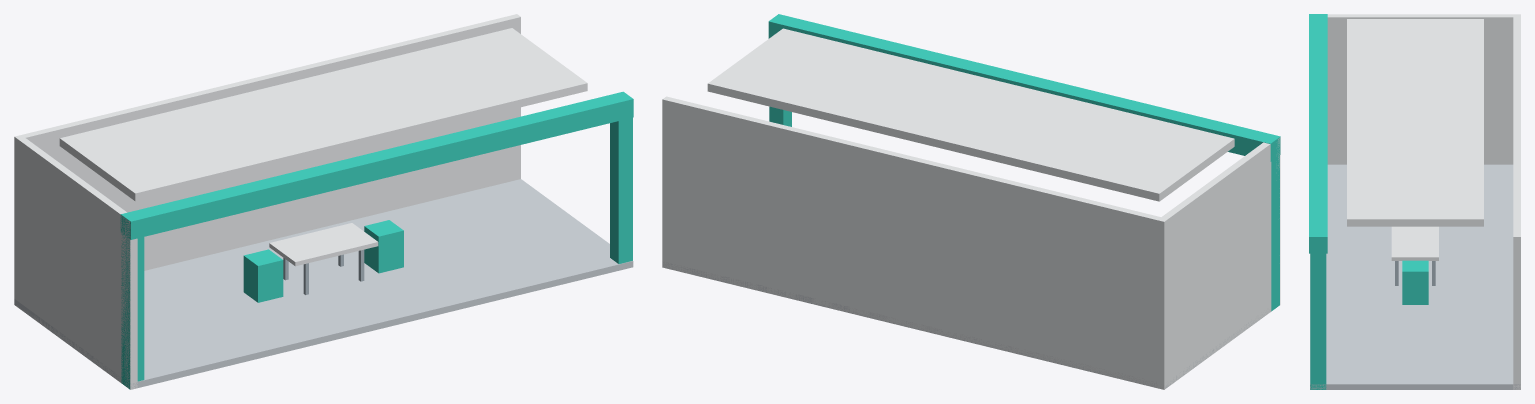
3 views of the same model, side by side, from view 1: azimuth 30°, elevation 25°; view 2: azimuth 150°, elevation 25°; view 3: azimuth 270°, elevation 25° (orthographic). The views are drawn at different scales.
Parts seen in each view (by area): view 1: Exhibition Booth Concept; view 2: Exhibition Booth Concept; view 3: Exhibition Booth Concept.
Part boxes in pixels (x1=…): Exhibition Booth Concept: x1=14, y1=14, x2=633, y2=389; Exhibition Booth Concept: x1=662, y1=14, x2=1280, y2=389; Exhibition Booth Concept: x1=1309, y1=14, x2=1520, y2=389.
Size of the model in its own units: 10 by 3.34 by 4.02.
